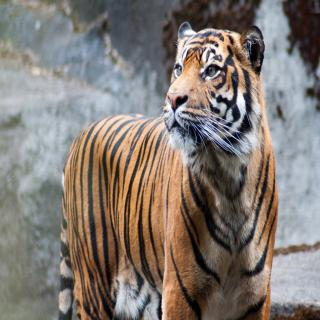Tiger: (57, 19, 279, 320)
